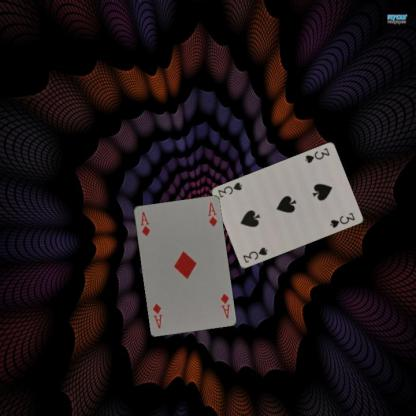3s: (240, 245, 269, 264), (302, 146, 331, 164)
Ad: (137, 209, 151, 237), (218, 290, 231, 320)
